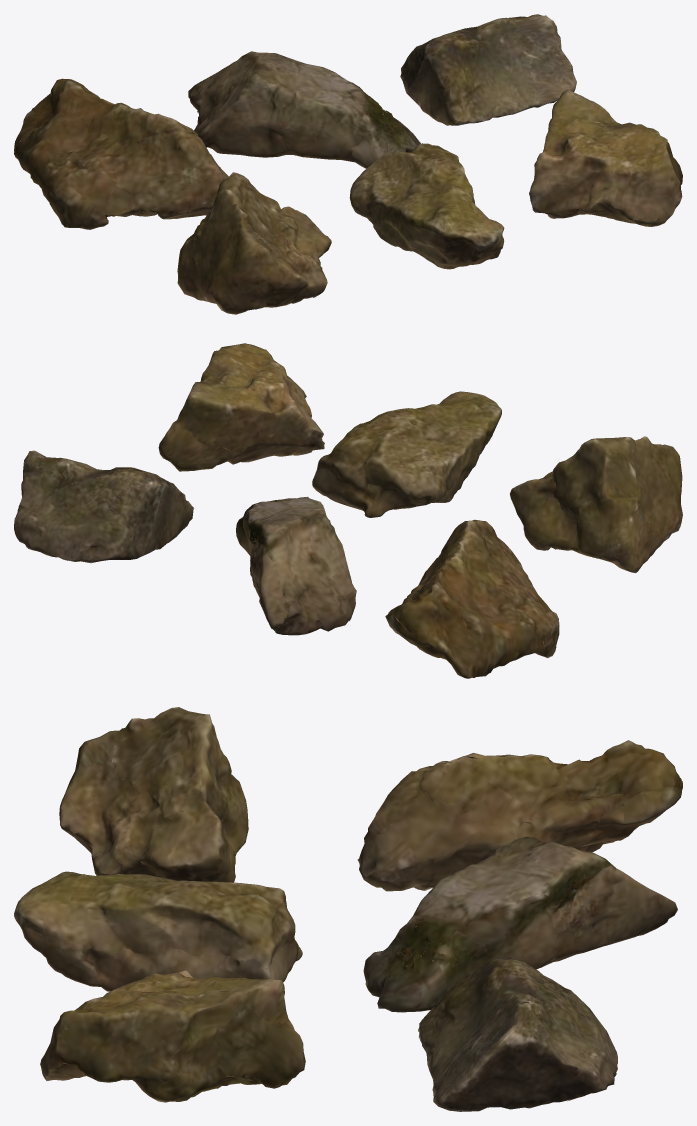
File: rock_moss_set_01.glb
The picture shows the model from 3 angles, top to bottom: view 1: azimuth 30°, elevation 25°; view 2: azimuth 150°, elevation 25°; view 3: azimuth 270°, elevation 25°; orthographic projection. The views are drawn at different scales.
Visible parts, largest first — view 1: rock_moss_set_01_rock01, rock_moss_set_01_rock02, rock_moss_set_01_rock06, rock_moss_set_01_rock04, rock_moss_set_01_rock03, rock_moss_set_01_rock05; view 2: rock_moss_set_01_rock04, rock_moss_set_01_rock01, rock_moss_set_01_rock05, rock_moss_set_01_rock03, rock_moss_set_01_rock06, rock_moss_set_01_rock02; view 3: rock_moss_set_01_rock01, rock_moss_set_01_rock02, rock_moss_set_01_rock05, rock_moss_set_01_rock04, rock_moss_set_01_rock06, rock_moss_set_01_rock03.
Part boxes in pixels (<box>): rock_moss_set_01_rock01: <box>14,78,228,229</box>; rock_moss_set_01_rock02: <box>188,51,420,168</box>; rock_moss_set_01_rock06: <box>529,89,682,226</box>; rock_moss_set_01_rock04: <box>177,172,331,314</box>; rock_moss_set_01_rock03: <box>400,14,576,125</box>; rock_moss_set_01_rock05: <box>349,143,504,269</box>; rock_moss_set_01_rock04: <box>510,436,682,573</box>; rock_moss_set_01_rock01: <box>385,519,559,678</box>; rock_moss_set_01_rock05: <box>312,391,501,517</box>; rock_moss_set_01_rock03: <box>14,450,193,563</box>; rock_moss_set_01_rock06: <box>158,343,324,471</box>; rock_moss_set_01_rock02: <box>236,496,356,635</box>; rock_moss_set_01_rock01: <box>357,740,682,891</box>; rock_moss_set_01_rock02: <box>363,836,677,1012</box>; rock_moss_set_01_rock05: <box>14,871,302,991</box>; rock_moss_set_01_rock04: <box>59,707,248,882</box>; rock_moss_set_01_rock06: <box>40,970,305,1102</box>; rock_moss_set_01_rock03: <box>418,956,617,1111</box>.
Bounding box in the file's own units: 8 × 1.77 × 6.95.
1 material, 1 textured.
